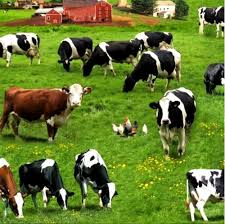waka: (147, 86, 199, 162), (70, 148, 121, 213), (77, 38, 145, 83), (1, 29, 44, 68)
